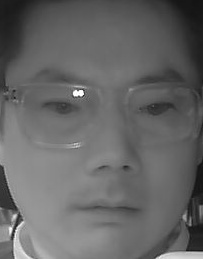glass: (14, 85, 97, 146), (124, 82, 200, 145)
mouth: (72, 189, 142, 236)
